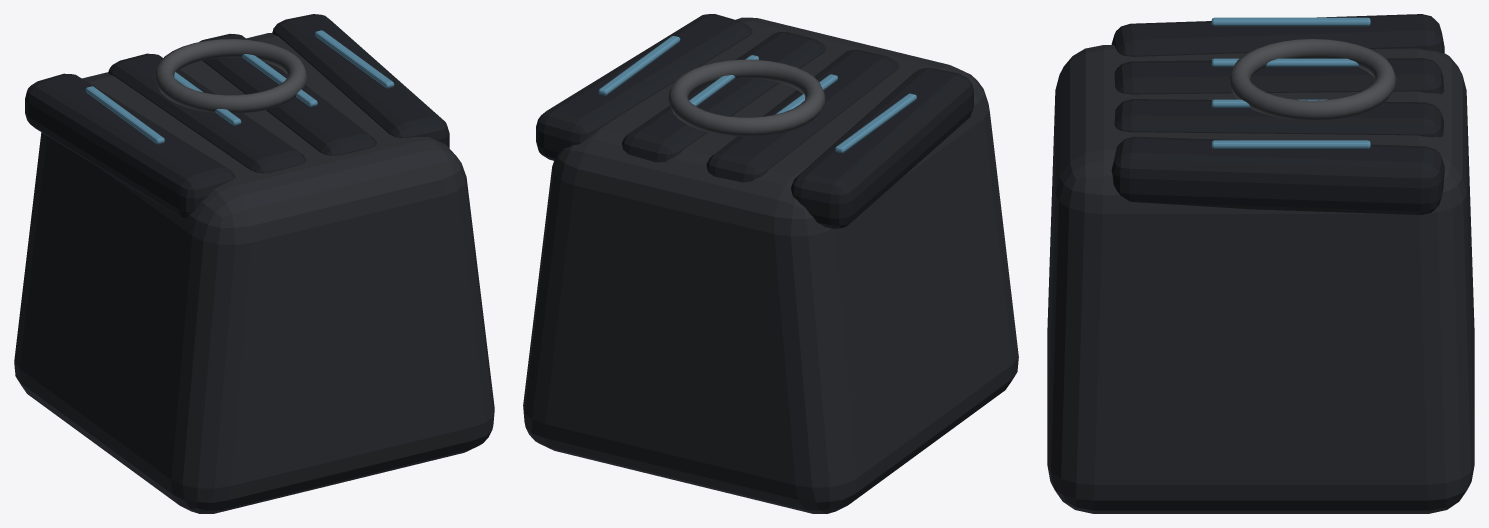
File: shepherd_palm.glb
3 views of the same model, side by side, from view 1: azimuth 30°, elevation 25°; view 2: azimuth 150°, elevation 25°; view 3: azimuth 270°, elevation 25° (orthographic). The views are drawn at different scales.
Visible parts, largest first — view 1: sh_skin, sh_hull, sh_edge, sh_light; view 2: sh_skin, sh_hull, sh_edge, sh_light; view 3: sh_skin, sh_hull, sh_edge, sh_light.
Part boxes in pixels (x1,y1,x2,y2): sh_skin: (14,33,494,513); sh_hull: (25,14,449,218); sh_edge: (154,39,307,113); sh_light: (85,30,394,144); sh_skin: (523,17,1018,513); sh_hull: (536,14,973,228); sh_edge: (668,59,825,136); sh_light: (598,36,916,153); sh_skin: (1047,45,1474,513); sh_hull: (1111,14,1444,214); sh_edge: (1228,39,1396,120); sh_light: (1211,17,1370,148).
Size of the model in its own units: 0.9361 by 0.955 by 0.9938.
